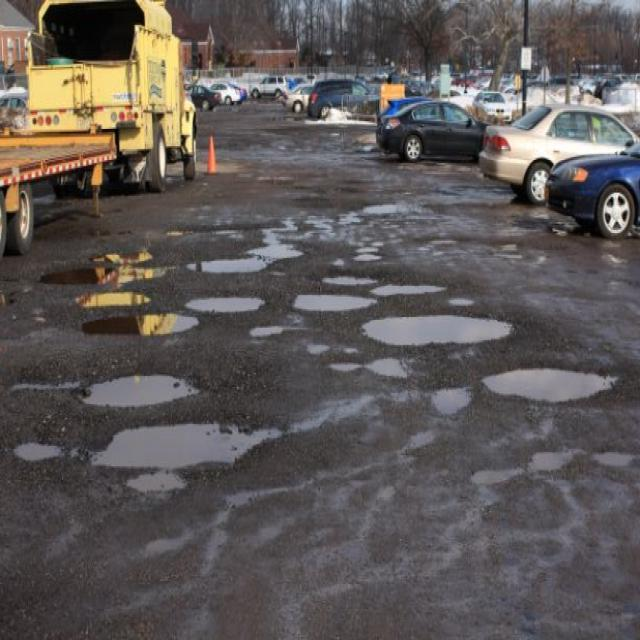Pothole: (87, 413, 289, 497), (361, 298, 520, 351), (480, 346, 622, 401), (79, 367, 201, 410), (81, 306, 204, 342), (183, 289, 273, 314), (292, 287, 379, 311), (187, 255, 267, 277), (370, 278, 447, 297), (11, 434, 67, 459)
